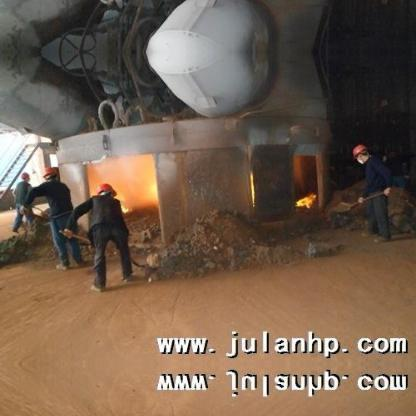helmet: (95, 180, 118, 198), (352, 143, 369, 158), (40, 166, 58, 178), (20, 172, 32, 180)
